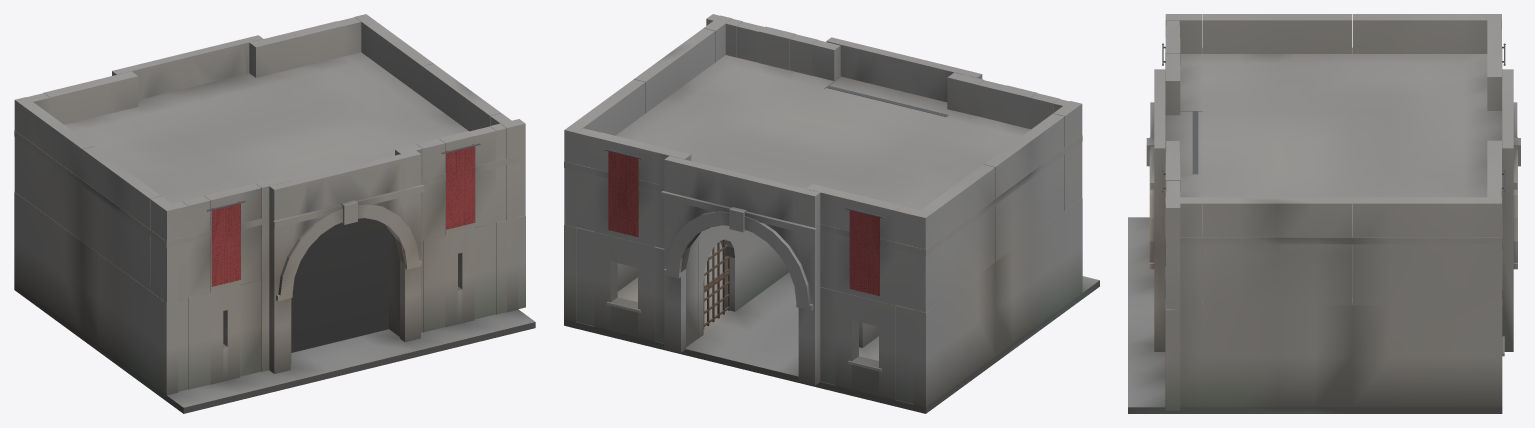
The model's file is gatehouse.glb.
The picture shows the model from 3 angles, left to right: view 1: azimuth 30°, elevation 25°; view 2: azimuth 150°, elevation 25°; view 3: azimuth 270°, elevation 25°; orthographic projection. The views are drawn at different scales.
Parts seen in each view (by area): view 1: gate_arch.002, portcullis.001, floor_flag_4.021, wall_ashlar_4.024, wall_ashlar_4.022, floor_flag_4.023, wall_ashlar_4.023, wall_ashlar_4.021, floor_flag_4.022, floor_flag_4.024, floor_flag_4.019, gate_arch.001 (+41 smaller); view 2: gate_arch.001, floor_flag_4.022, wall_ashlar_4.022, wall_ashlar_4.021, floor_flag_4.024, wall_ashlar_4.024, wall_ashlar_4.023, floor_cobble_4.086, floor_flag_4.020, wall_ashlar_window.001, wall_ashlar_window.002, gate_arch.002 (+41 smaller); view 3: wall_ashlar_4.025, wall_ashlar_4.027, wall_ashlar_4.028, wall_ashlar_4.026, floor_flag_4.022, floor_flag_4.021, floor_flag_4.020, floor_flag_4.019, wall_ashlar_4.024, wall_ashlar_4.022, floor_flag_4.024, floor_flag_4.023 (+23 smaller).
Part boxes in pixels (bbox=[...]): gate_arch.002: bbox=[269, 150, 424, 373]; portcullis.001: bbox=[291, 218, 388, 352]; floor_flag_4.021: bbox=[138, 73, 316, 151]; wall_ashlar_4.024: bbox=[82, 146, 160, 290]; wall_ashlar_4.022: bbox=[14, 97, 93, 240]; floor_flag_4.023: bbox=[249, 52, 421, 122]; wall_ashlar_4.023: bbox=[82, 241, 149, 382]; wall_ashlar_4.021: bbox=[14, 192, 81, 332]; floor_flag_4.022: bbox=[200, 122, 369, 185]; floor_flag_4.024: bbox=[317, 97, 468, 161]; floor_flag_4.019: bbox=[14, 106, 198, 185]; gate_arch.001: bbox=[112, 35, 263, 99]; gate_arch.001: bbox=[661, 156, 820, 385]; floor_flag_4.022: bbox=[755, 89, 943, 169]; wall_ashlar_4.022: bbox=[914, 164, 994, 312]; wall_ashlar_4.021: bbox=[913, 262, 995, 407]; floor_flag_4.024: bbox=[646, 62, 823, 139]; wall_ashlar_4.024: bbox=[983, 113, 1064, 261]; wall_ashlar_4.023: bbox=[995, 211, 1064, 355]; floor_cobble_4.086: bbox=[684, 298, 805, 384]; floor_flag_4.020: bbox=[875, 118, 1064, 204]; wall_ashlar_window.001: bbox=[835, 291, 895, 400]; wall_ashlar_window.002: bbox=[594, 232, 654, 341]; gate_arch.002: bbox=[826, 37, 982, 102]; wall_ashlar_4.025: bbox=[1352, 299, 1502, 407]; wall_ashlar_4.027: bbox=[1203, 299, 1352, 407]; wall_ashlar_4.028: bbox=[1203, 197, 1352, 305]; wall_ashlar_4.026: bbox=[1353, 197, 1501, 305]; floor_flag_4.022: bbox=[1203, 111, 1352, 174]; floor_flag_4.021: bbox=[1352, 111, 1502, 174]; floor_flag_4.020: bbox=[1203, 48, 1352, 110]; floor_flag_4.019: bbox=[1352, 48, 1502, 110]; wall_ashlar_4.024: bbox=[1203, 14, 1352, 53]; wall_ashlar_4.022: bbox=[1353, 14, 1501, 53]; floor_flag_4.024: bbox=[1203, 174, 1352, 244]; floor_flag_4.023: bbox=[1352, 174, 1502, 244].
Bounding box in the file's own units: 12.25 × 6.2 × 10.5.
